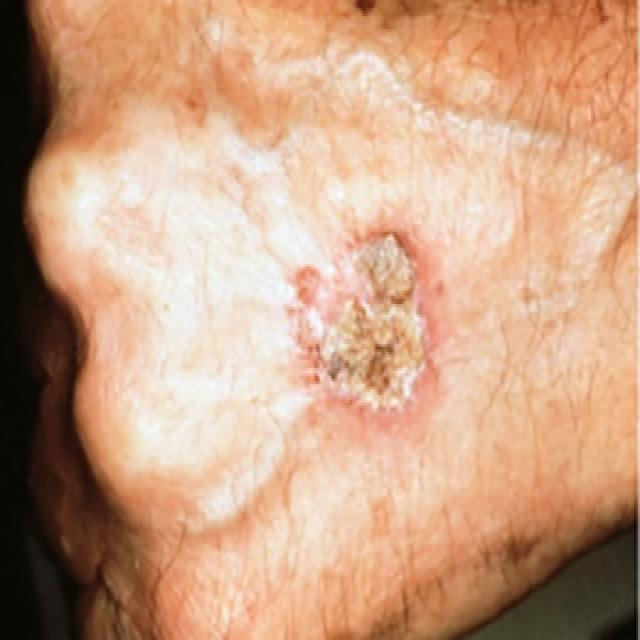Cancer: (274, 162, 453, 423)
